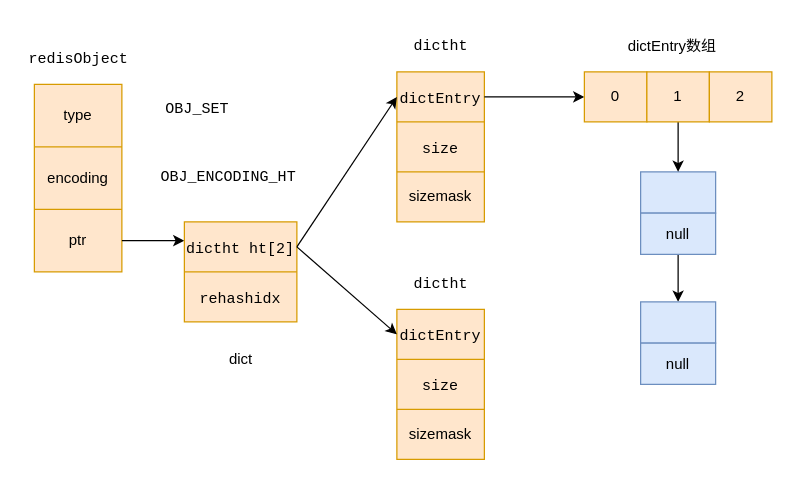
This 794x481 diagram has some shape labels left out. Each missing label, with the centre of its shape:
"member1" belongs at point (677, 192).
"member2" belongs at point (677, 322).
